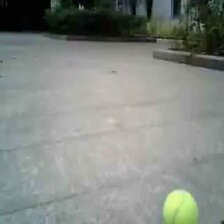tennis: (164, 191, 196, 224)
